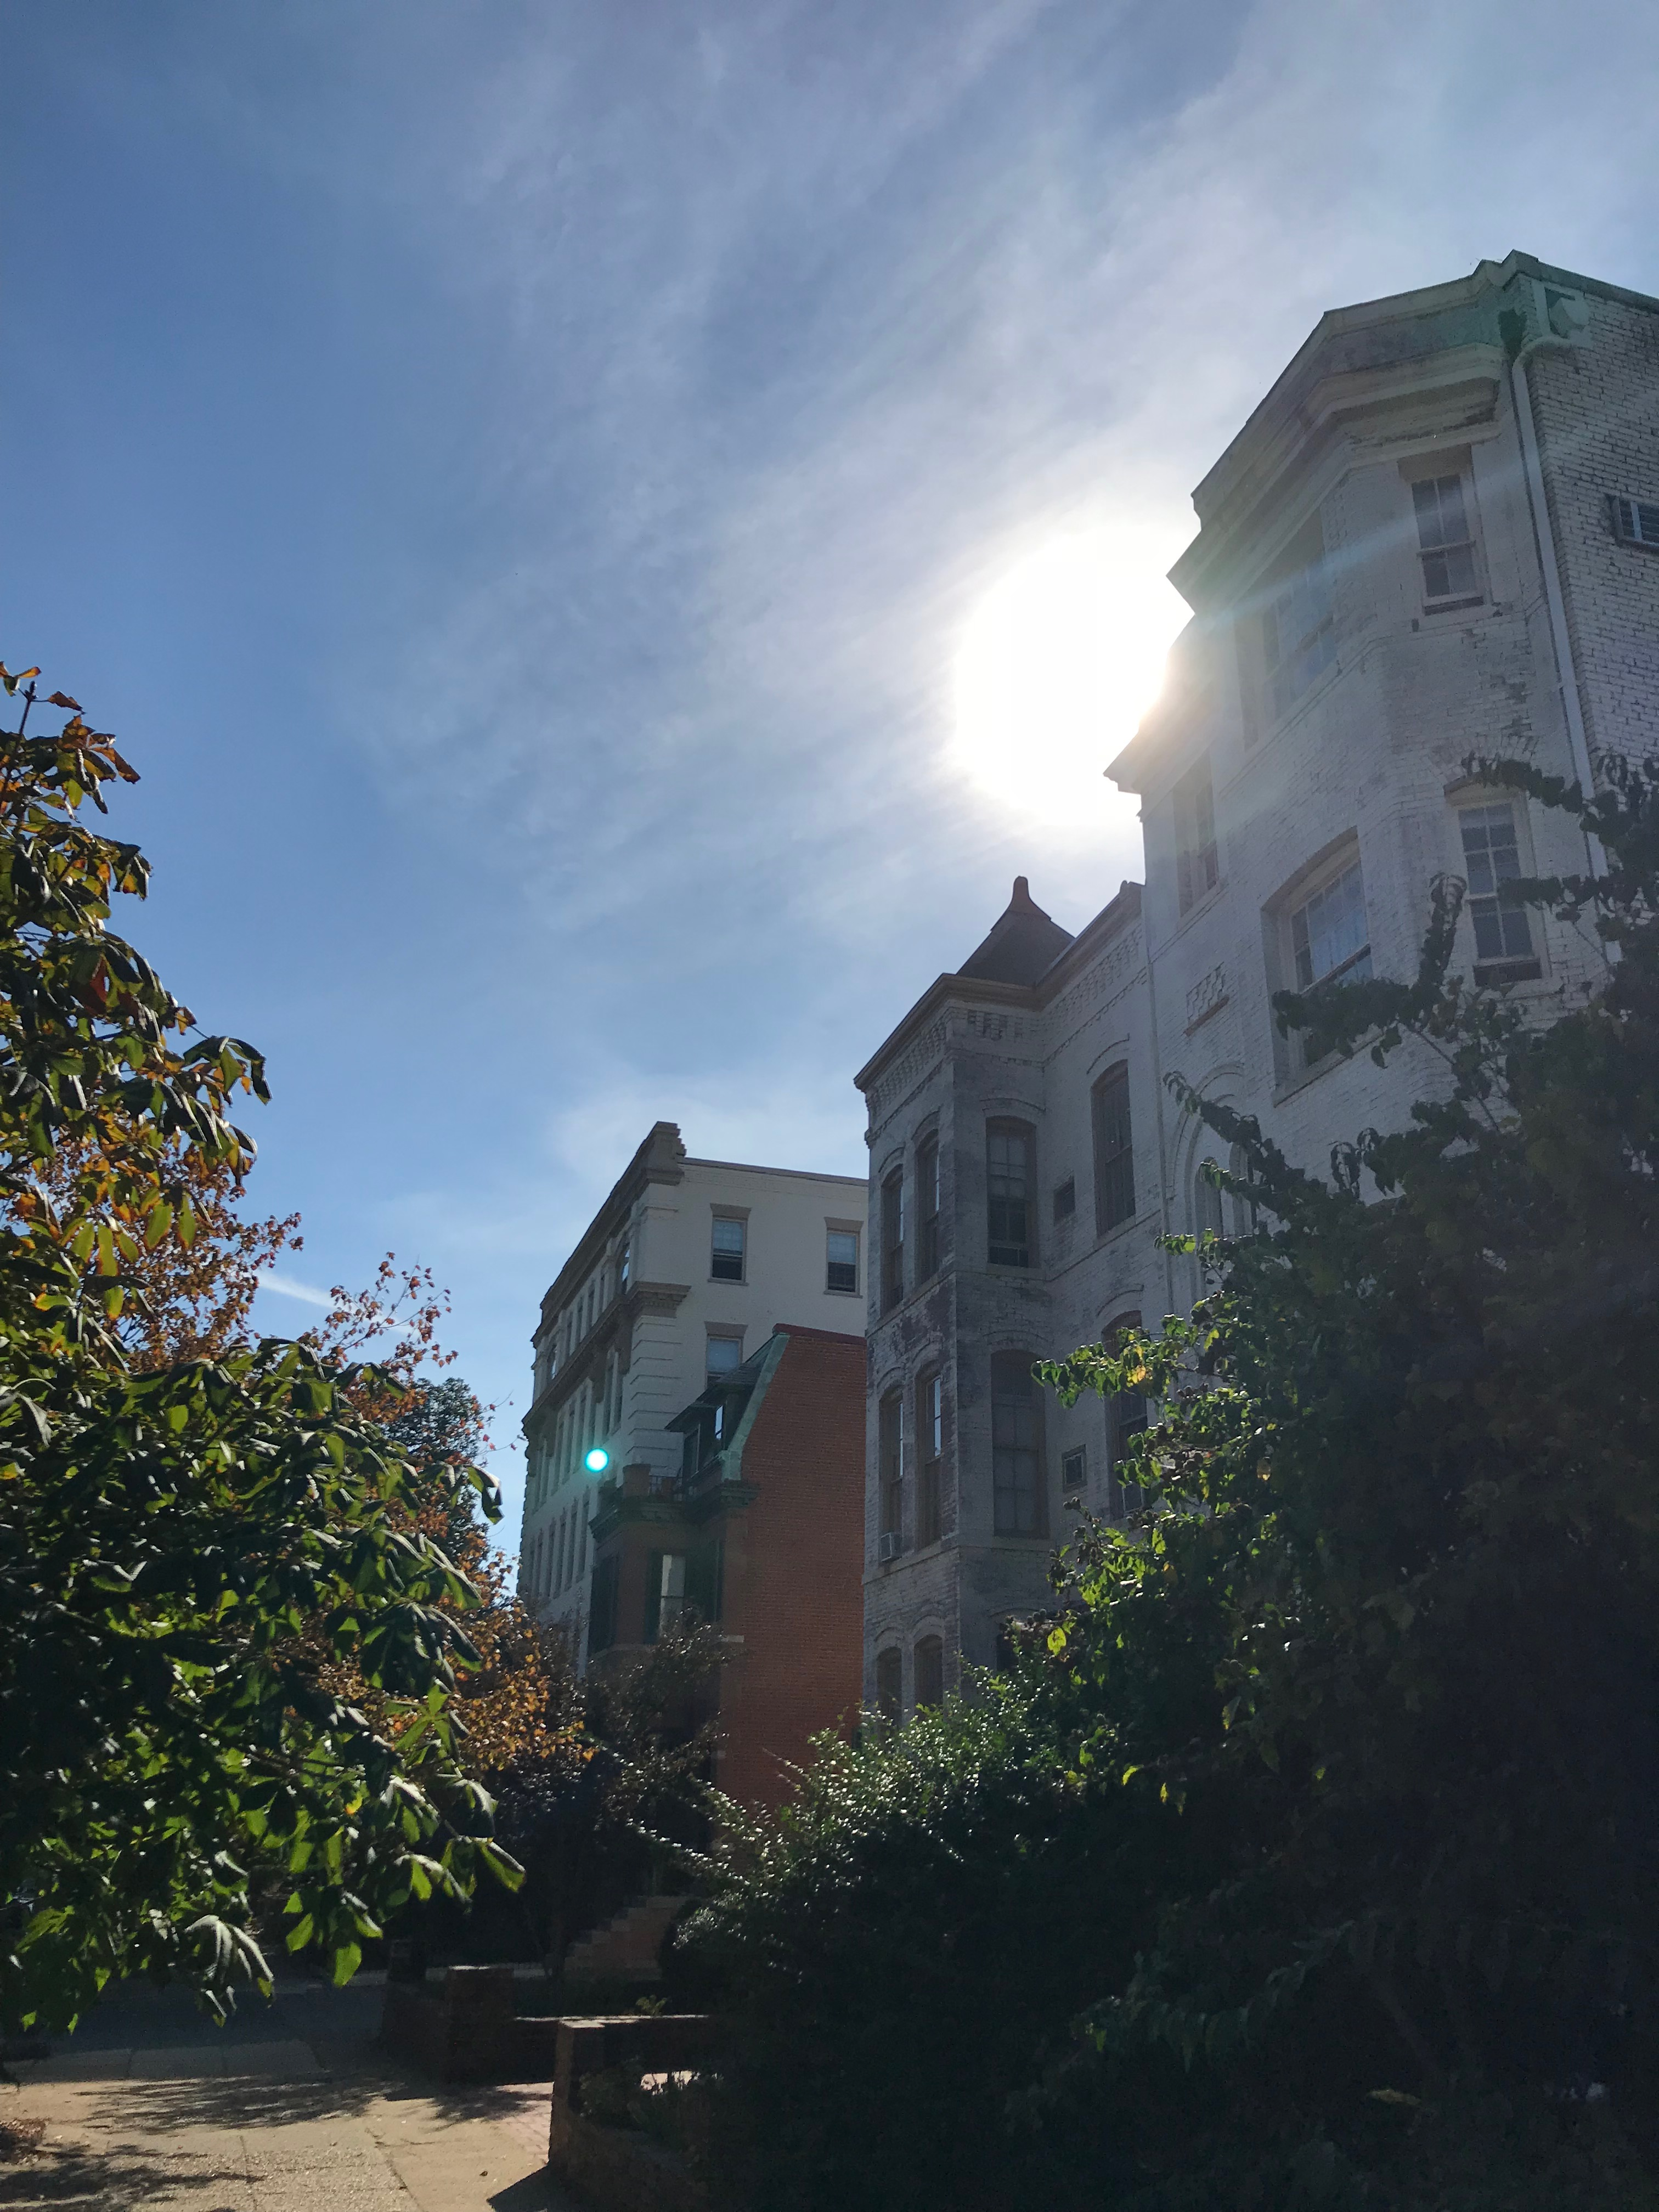flare: (582, 1447, 612, 1474)
